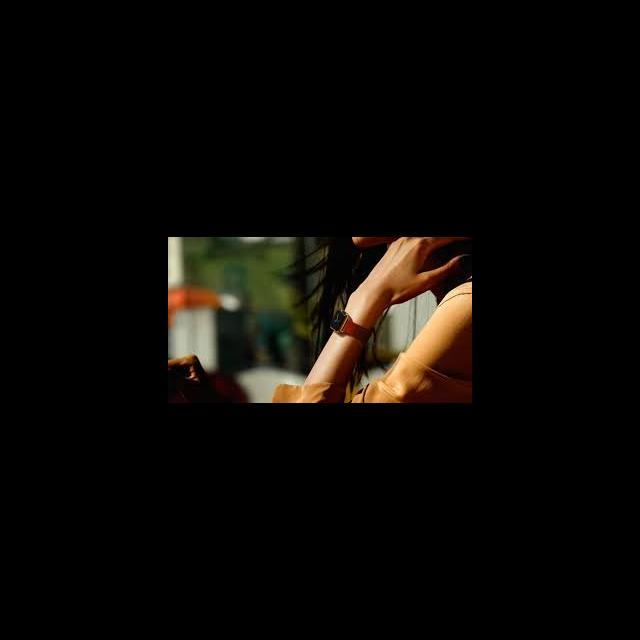watch: (322, 297, 386, 353)
